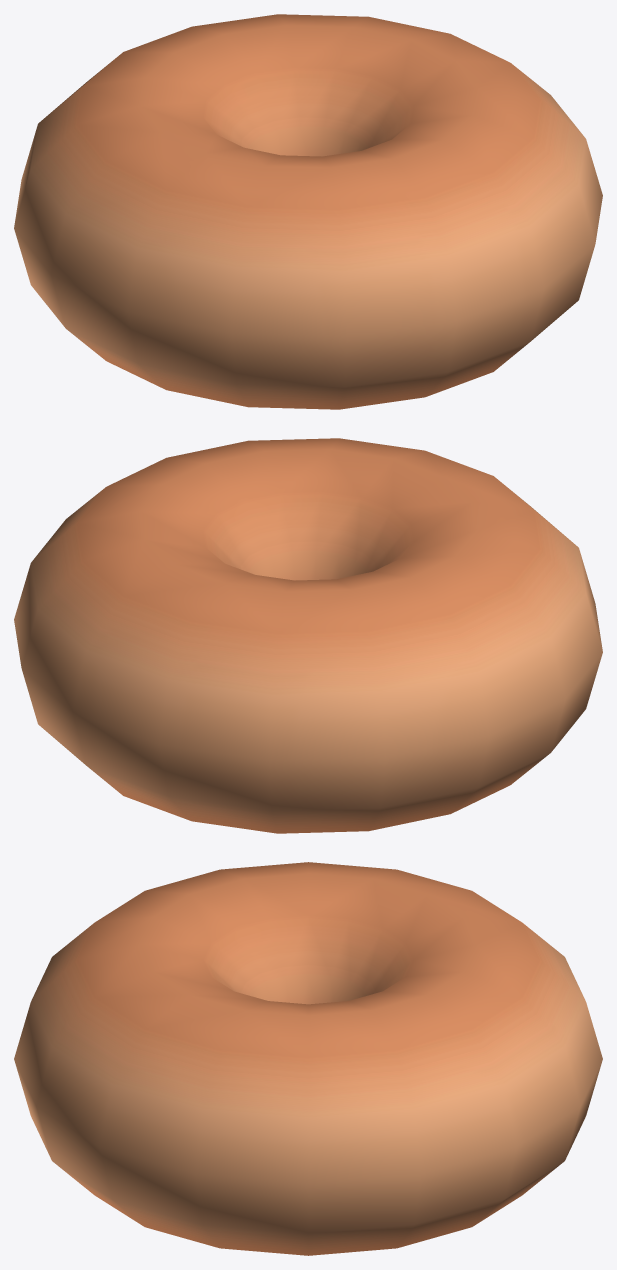
File: Donut-transformed.glb
3 renders of one model, top to bottom at view 1: azimuth 30°, elevation 25°; view 2: azimuth 150°, elevation 25°; view 3: azimuth 270°, elevation 25°, orthographic.
Parts seen in each view (by area): view 1: donut; view 2: donut; view 3: donut.
Boxes of the visible parts, x1,y1,x2,y2 form: donut: [14, 14, 602, 409]; donut: [14, 438, 602, 833]; donut: [14, 862, 602, 1255].
Bounding box in the file's own units: 0.4196 × 0.1798 × 0.4196.
Materials: 1 (1 with a texture image).
